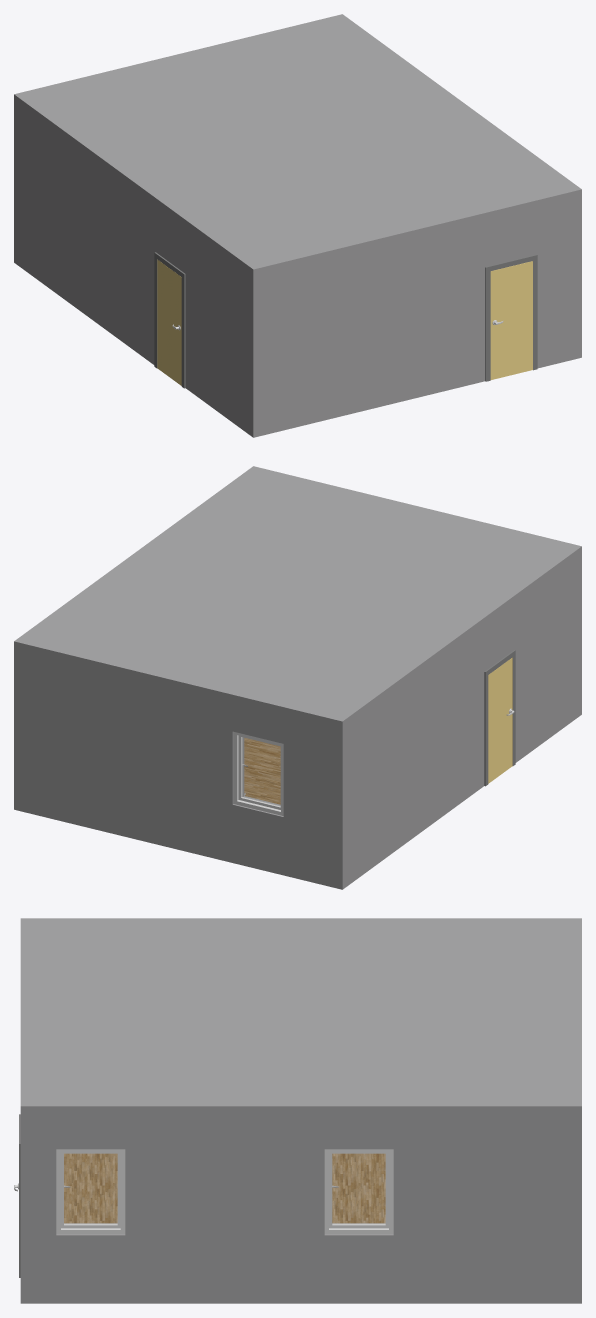
Rendered from MedtLab.glb.
3 views of the same model, one above another, from view 1: azimuth 30°, elevation 25°; view 2: azimuth 150°, elevation 25°; view 3: azimuth 270°, elevation 25° (orthographic). The views are drawn at different scales.
Parts seen in each view (by area): view 1: Room, Roof, Door.001, Door, DoorFrame.001, DoorFrame; view 2: Room, Roof, Window.L, Door, Floor, DoorFrame, WindowFrame; view 3: Room, Roof, Floor, Window.L.002, Window.L.001, WindowFrame.001, WindowFrame.002.
Part boxes in pixels (x1=…): Room: x1=14, y1=14, x2=581, y2=437; Roof: x1=47, y1=28, x2=548, y2=255; Door.001: x1=490, y1=261, x2=532, y2=379; Door: x1=157, y1=259, x2=181, y2=385; DoorFrame.001: x1=485, y1=254, x2=537, y2=381; DoorFrame: x1=154, y1=252, x2=185, y2=388; Room: x1=14, y1=466, x2=581, y2=889; Roof: x1=47, y1=480, x2=548, y2=707; Window.L: x1=238, y1=735, x2=280, y2=809; Door: x1=488, y1=657, x2=512, y2=783; Floor: x1=244, y1=737, x2=280, y2=804; DoorFrame: x1=484, y1=650, x2=515, y2=786; WindowFrame: x1=233, y1=731, x2=283, y2=815; Room: x1=20, y1=918, x2=581, y2=1303; Roof: x1=48, y1=930, x2=553, y2=1094; Floor: x1=64, y1=1153, x2=385, y2=1223; Window.L.002: x1=329, y1=1152, x2=388, y2=1228; Window.L.001: x1=61, y1=1152, x2=120, y2=1228; WindowFrame.001: x1=56, y1=1149, x2=125, y2=1231; WindowFrame.002: x1=324, y1=1149, x2=393, y2=1231.
Size of the model in its own units: 5.81 by 2.8 by 7.31.
Materials: 8 (1 with a texture image).
